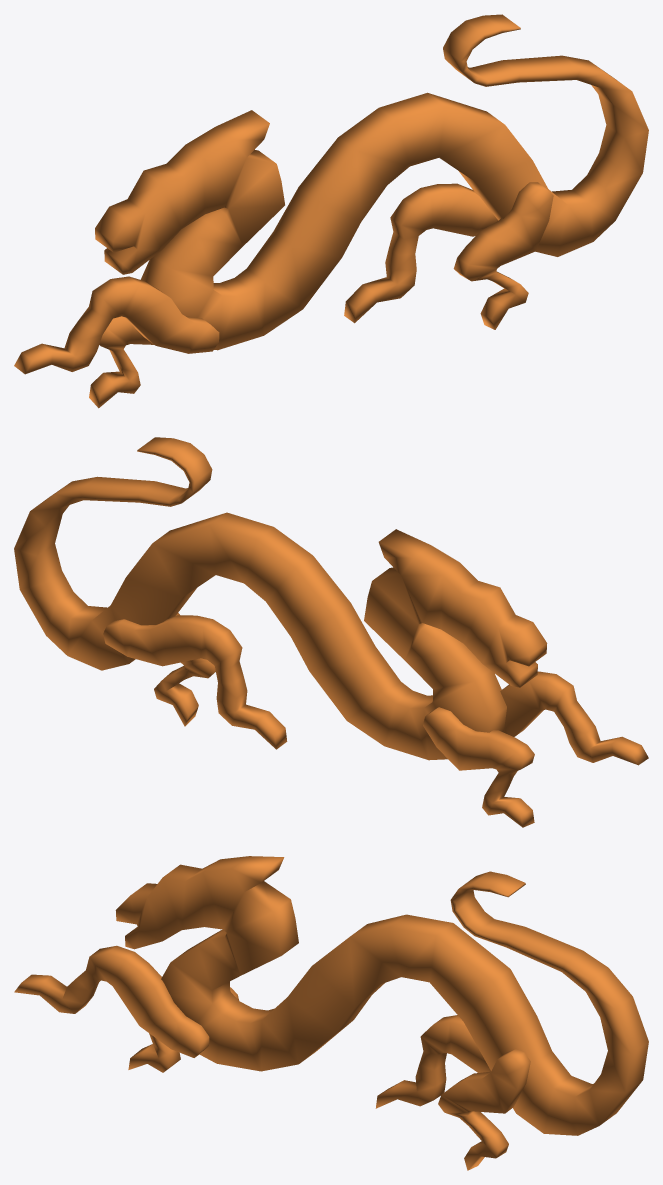
The model's file is Dragon.fbx.
3 renders of one model, top to bottom at view 1: azimuth 30°, elevation 25°; view 2: azimuth 150°, elevation 25°; view 3: azimuth 330°, elevation 25°, orthographic. The views are drawn at different scales.
Parts seen in each view (by area): view 1: Dragon; view 2: Dragon; view 3: Dragon.
Boxes of the visible parts, x1,y1,x2,y2 form: Dragon: (14,14,648,408); Dragon: (14,437,648,827); Dragon: (14,856,648,1170).
Size of the model in its own units: 2.02 by 0.8989 by 0.1951.
